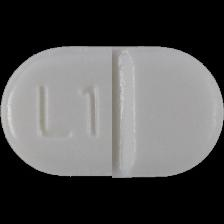16714-371: (0, 0, 224, 224)
